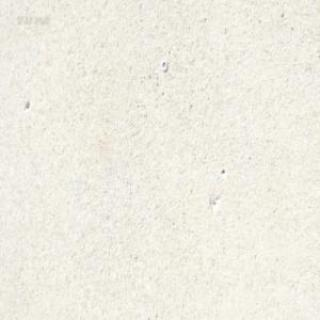Washertrack_idkeyframe: (160, 58, 167, 72)
